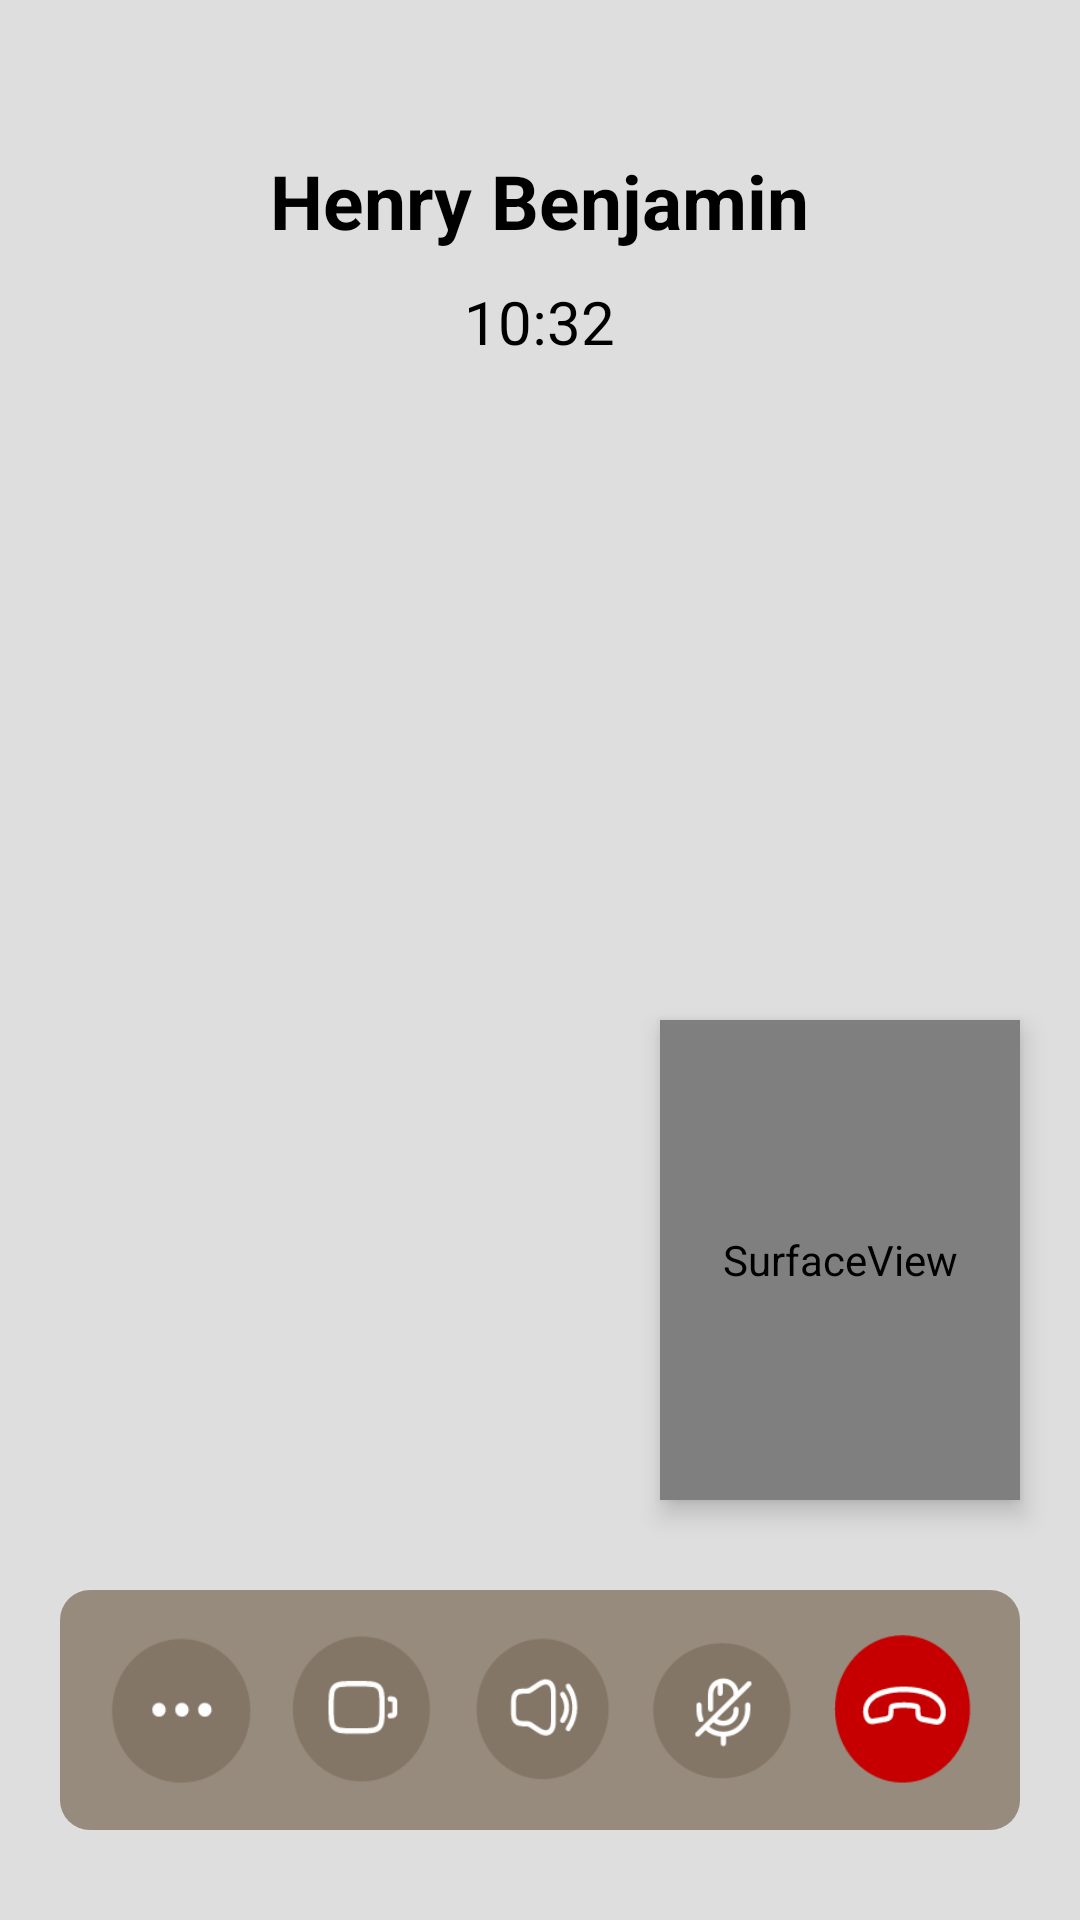

Screen size 1080×1920. Icon name, then its center in pixels as point (x, y):
end call: point (902, 1709)
mute: point (722, 1710)
optns: point (182, 1709)
speaker: point (542, 1708)
video call: point (361, 1709)
